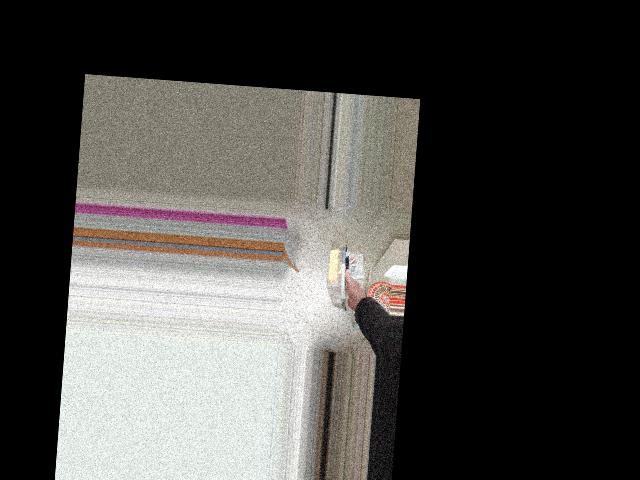cheese: (308, 249, 379, 323)
